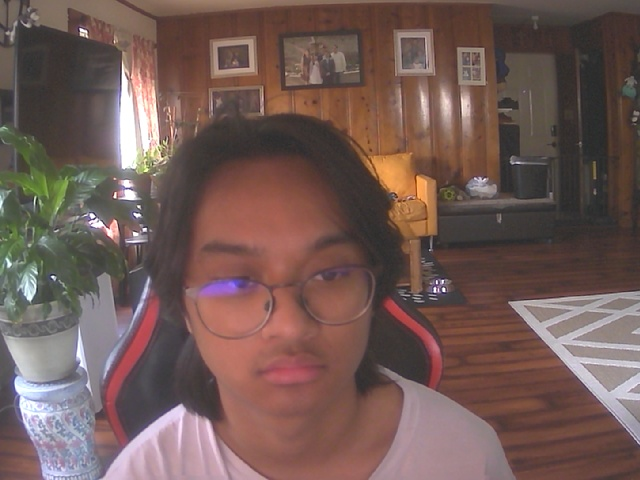neutral: (175, 129, 392, 421)
